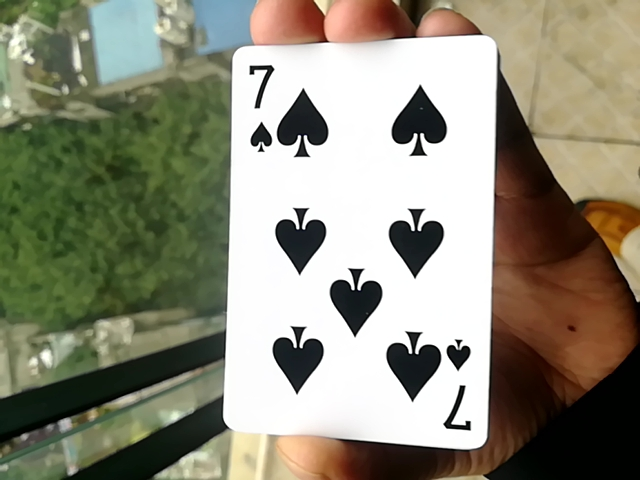ht 7: (231, 22, 483, 459)
